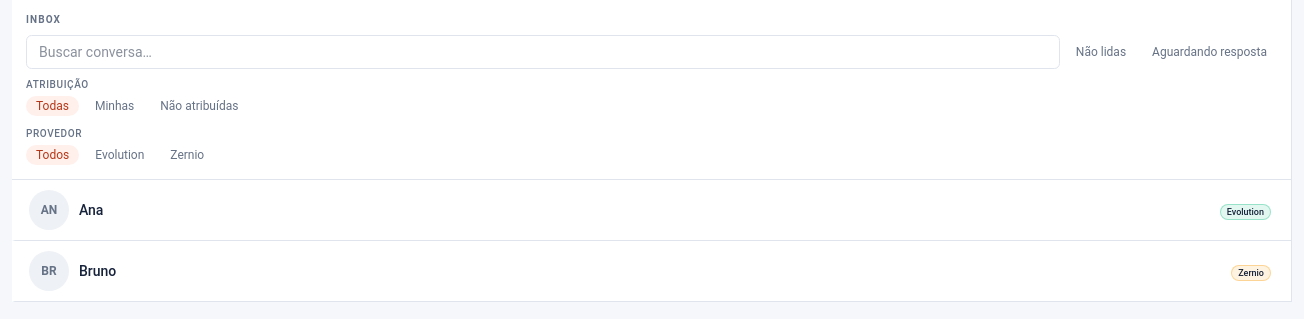
Test case: ConversationsList provider filter (F4b) › selecting a provider tab sends that provider as a server-side filter param, "Todos" clears it
The image size is (1304, 319).
Check: the text "Ana" is shown, box [79,200,103,220]
Check: the text "Bruno" is shown, box [79,261,116,281]
Step 1. Click the button "Zernio" → [187, 155], box [160,145,214,165]
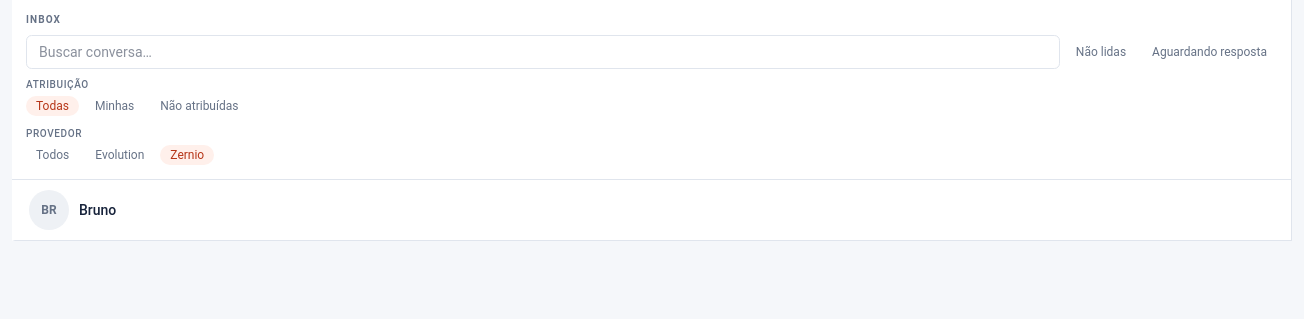
Check: the text "Bruno" is shown, box [79,200,116,220]
Check: the button "Ana" is gone
Step 2. Click the button "Todos" → [53, 155], box [26,145,79,165]
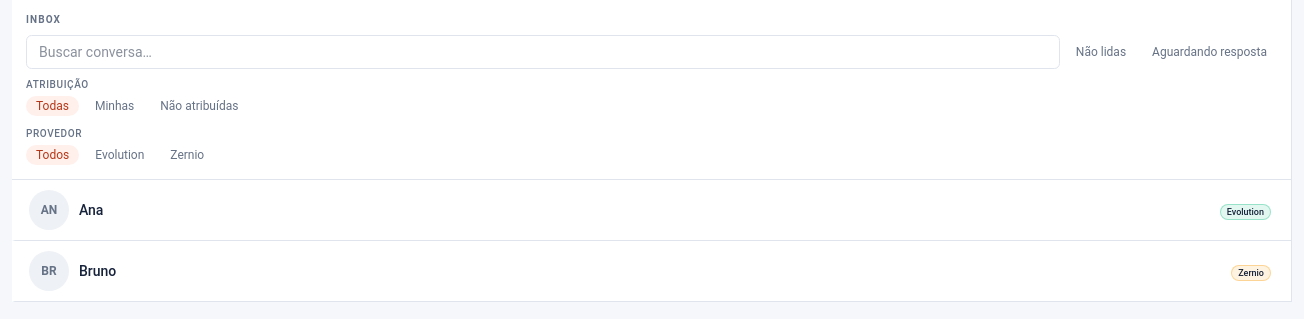
Check: the text "Bruno" is shown, box [79,261,116,281]
Check: the text "Ana" is shown, box [79,200,103,220]
